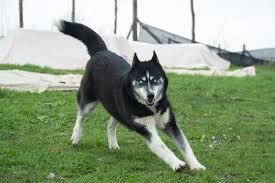Siberian Husky: (44, 14, 227, 179)
